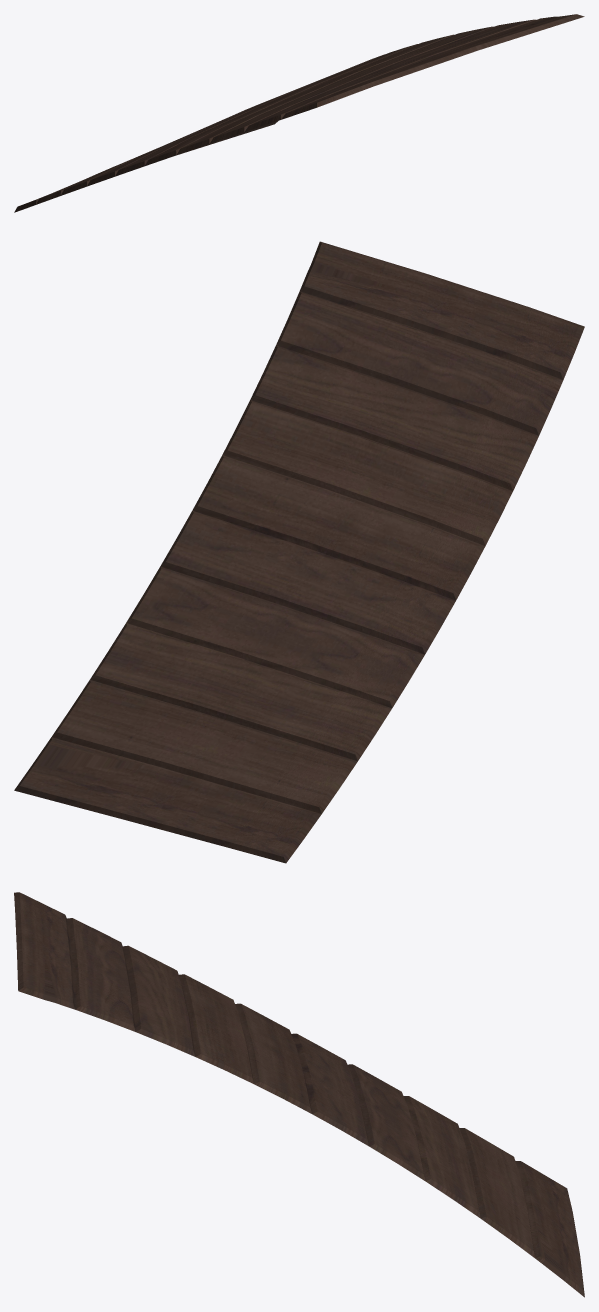
3 renders of one model, top to bottom at view 1: azimuth 30°, elevation 25°; view 2: azimuth 150°, elevation 25°; view 3: azimuth 270°, elevation 25°, orthographic. The views are drawn at different scales.
Visible parts, largest first — view 1: 筝首; view 2: 筝首; view 3: 筝首.
Part boxes in pixels (bbox=[...]): 筝首: bbox=[14, 14, 584, 212]; 筝首: bbox=[14, 241, 584, 863]; 筝首: bbox=[14, 892, 584, 1297].
Size of the model in its own units: 115 by 133 by 214.
Materials: 1 (1 with a texture image).
